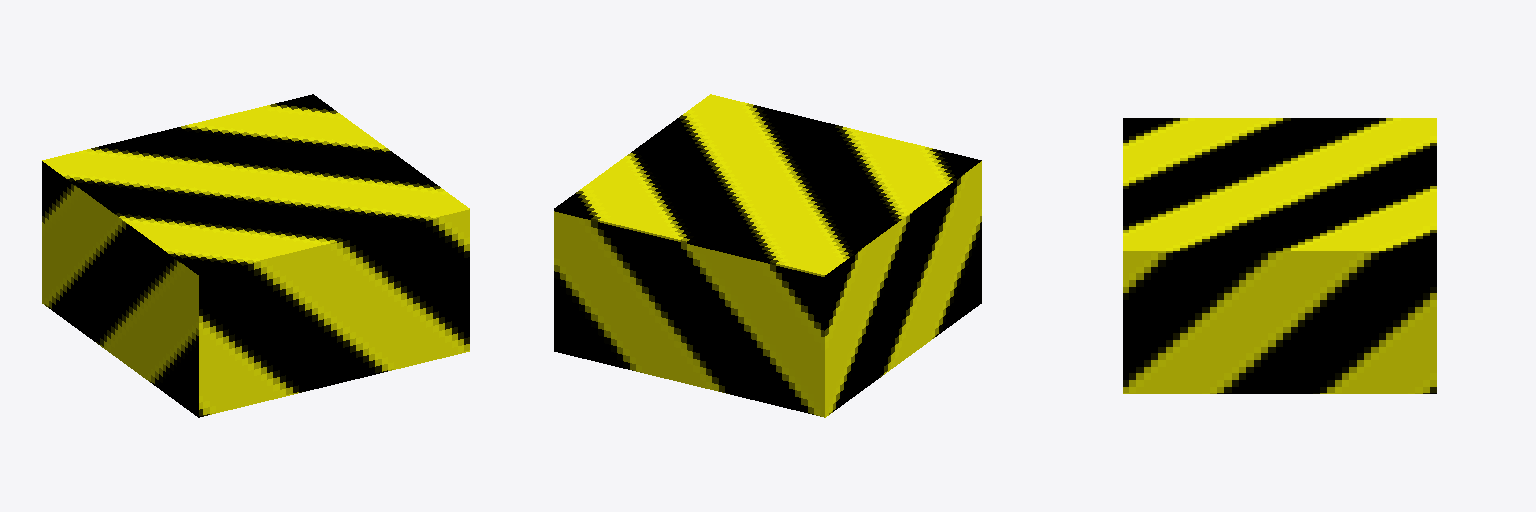
3 renders of one model, left to right at view 1: azimuth 30°, elevation 25°; view 2: azimuth 150°, elevation 25°; view 3: azimuth 270°, elevation 25°, orthographic.
Parts seen in each view (by area): view 1: cube1; view 2: cube1; view 3: cube1.
Part boxes in pixels (left/top/right/bottom): cube1: left=42, top=94, right=469, bottom=417; cube1: left=554, top=94, right=981, bottom=417; cube1: left=1123, top=118, right=1436, bottom=393.
Bounding box in the file's own units: 1 × 0.5 × 1.
1 materials, 1 textured.